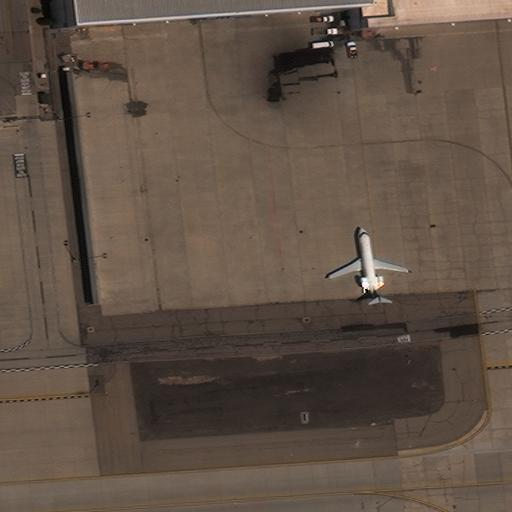Medium Civil Transport: (329, 227, 406, 306)
